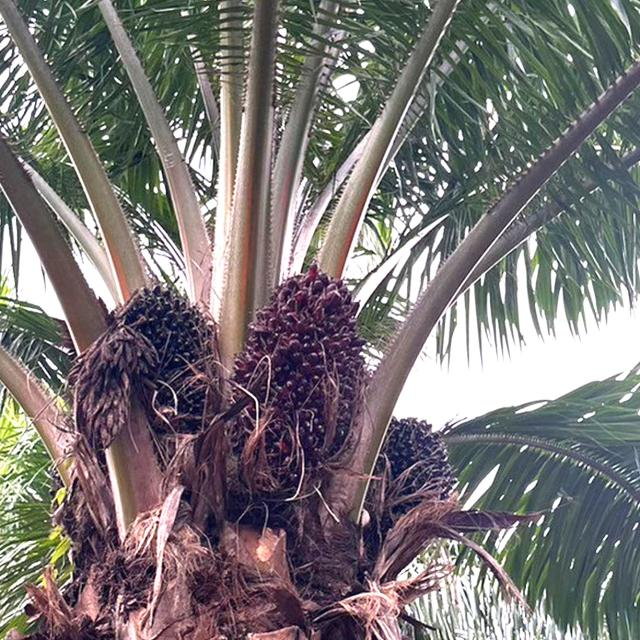ripe: (238, 255, 373, 469), (117, 274, 217, 418), (386, 411, 458, 515)
